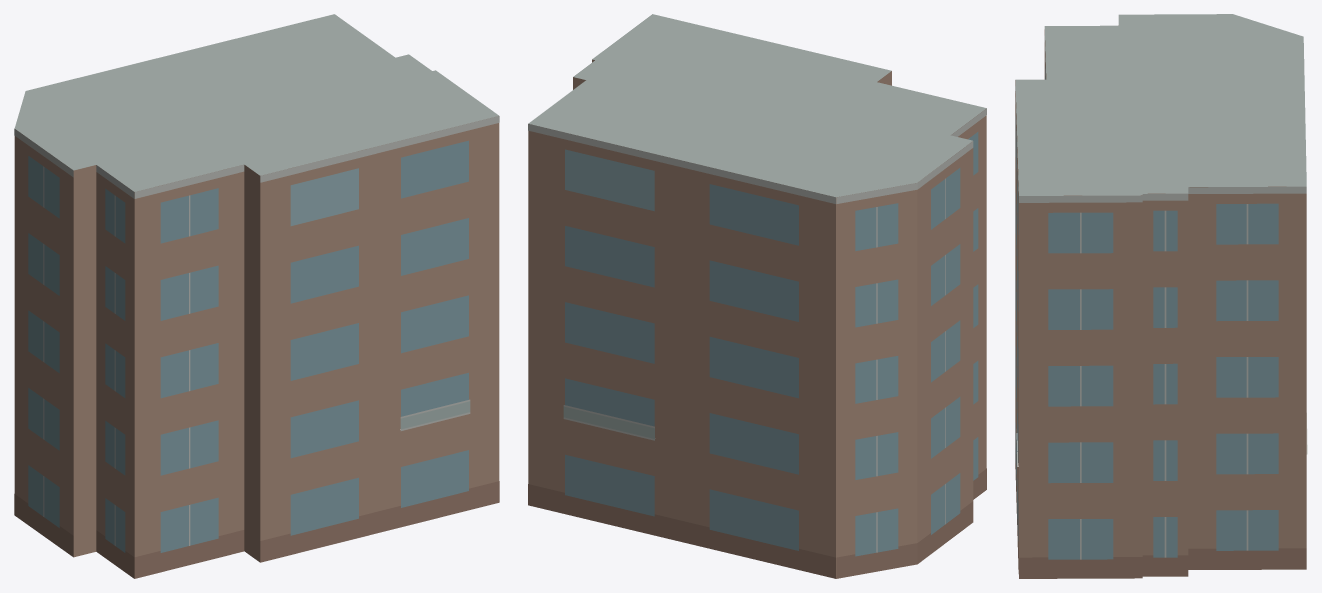
File: survey-upis-32667800.glb
3 views of the same model, side by side, from view 1: azimuth 30°, elevation 25°; view 2: azimuth 150°, elevation 25°; view 3: azimuth 270°, elevation 25° (orthographic).
Parts seen in each view (by area): view 1: survey-upis-32667800.tmp; view 2: survey-upis-32667800.tmp; view 3: survey-upis-32667800.tmp.
Part boxes in pixels (x1,y1,x2,y2): survey-upis-32667800.tmp: (14, 14, 499, 578); survey-upis-32667800.tmp: (528, 14, 986, 578); survey-upis-32667800.tmp: (1015, 14, 1307, 578).
Size of the model in its own units: 13.67 by 13.4 by 9.27.
